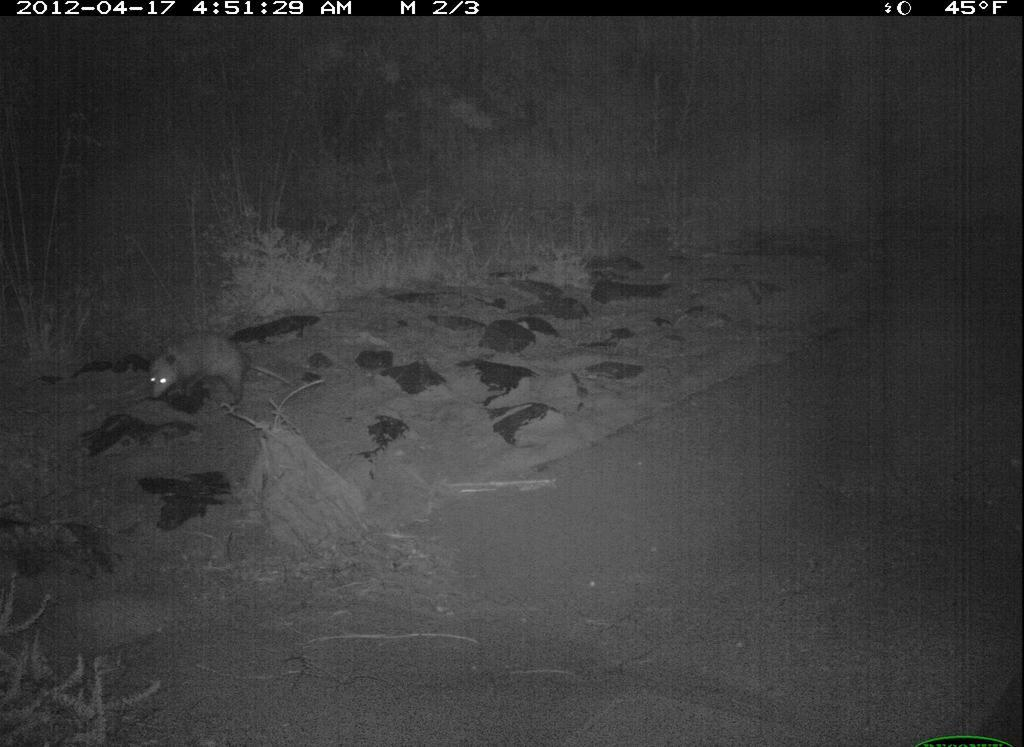opossum: (139, 322, 253, 417)
